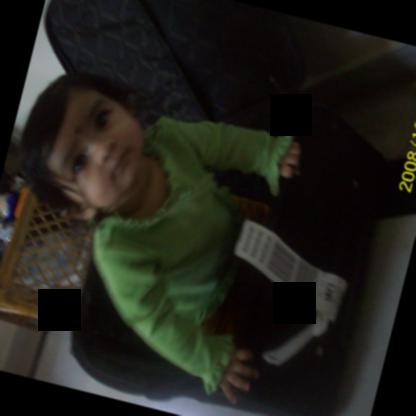suitcase: (69, 108, 386, 416)
